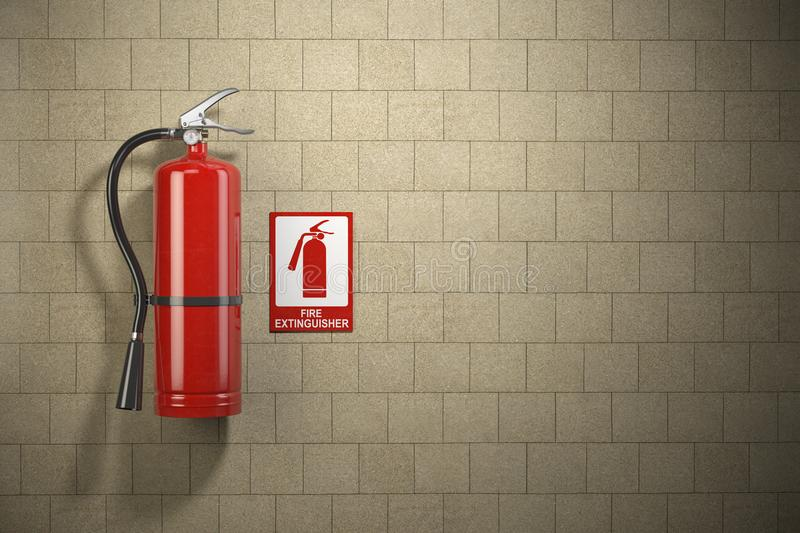fire_extinguisher: (106, 87, 255, 419), (287, 219, 335, 299)
